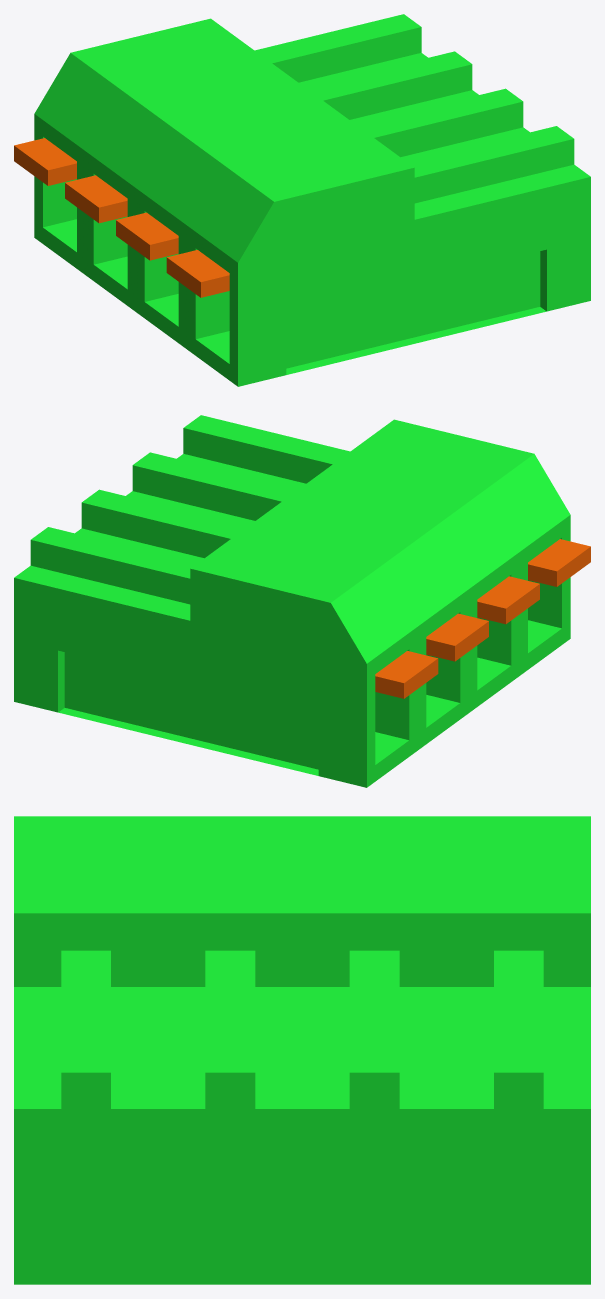
File: PlugNode_End.fbx
3 views of the same model, one above another, from view 1: azimuth 30°, elevation 25°; view 2: azimuth 150°, elevation 25°; view 3: azimuth 270°, elevation 25° (orthographic). The views are drawn at different scales.
Visible parts, largest first — view 1: PlugNode_End; view 2: PlugNode_End; view 3: PlugNode_End.
Part boxes in pixels (left/top/right/bottom): PlugNode_End: left=14, top=14, right=590, bottom=386; PlugNode_End: left=14, top=415, right=590, bottom=787; PlugNode_End: left=14, top=816, right=590, bottom=1284.
Size of the model in its own units: 81.13 by 35.79 by 75.
